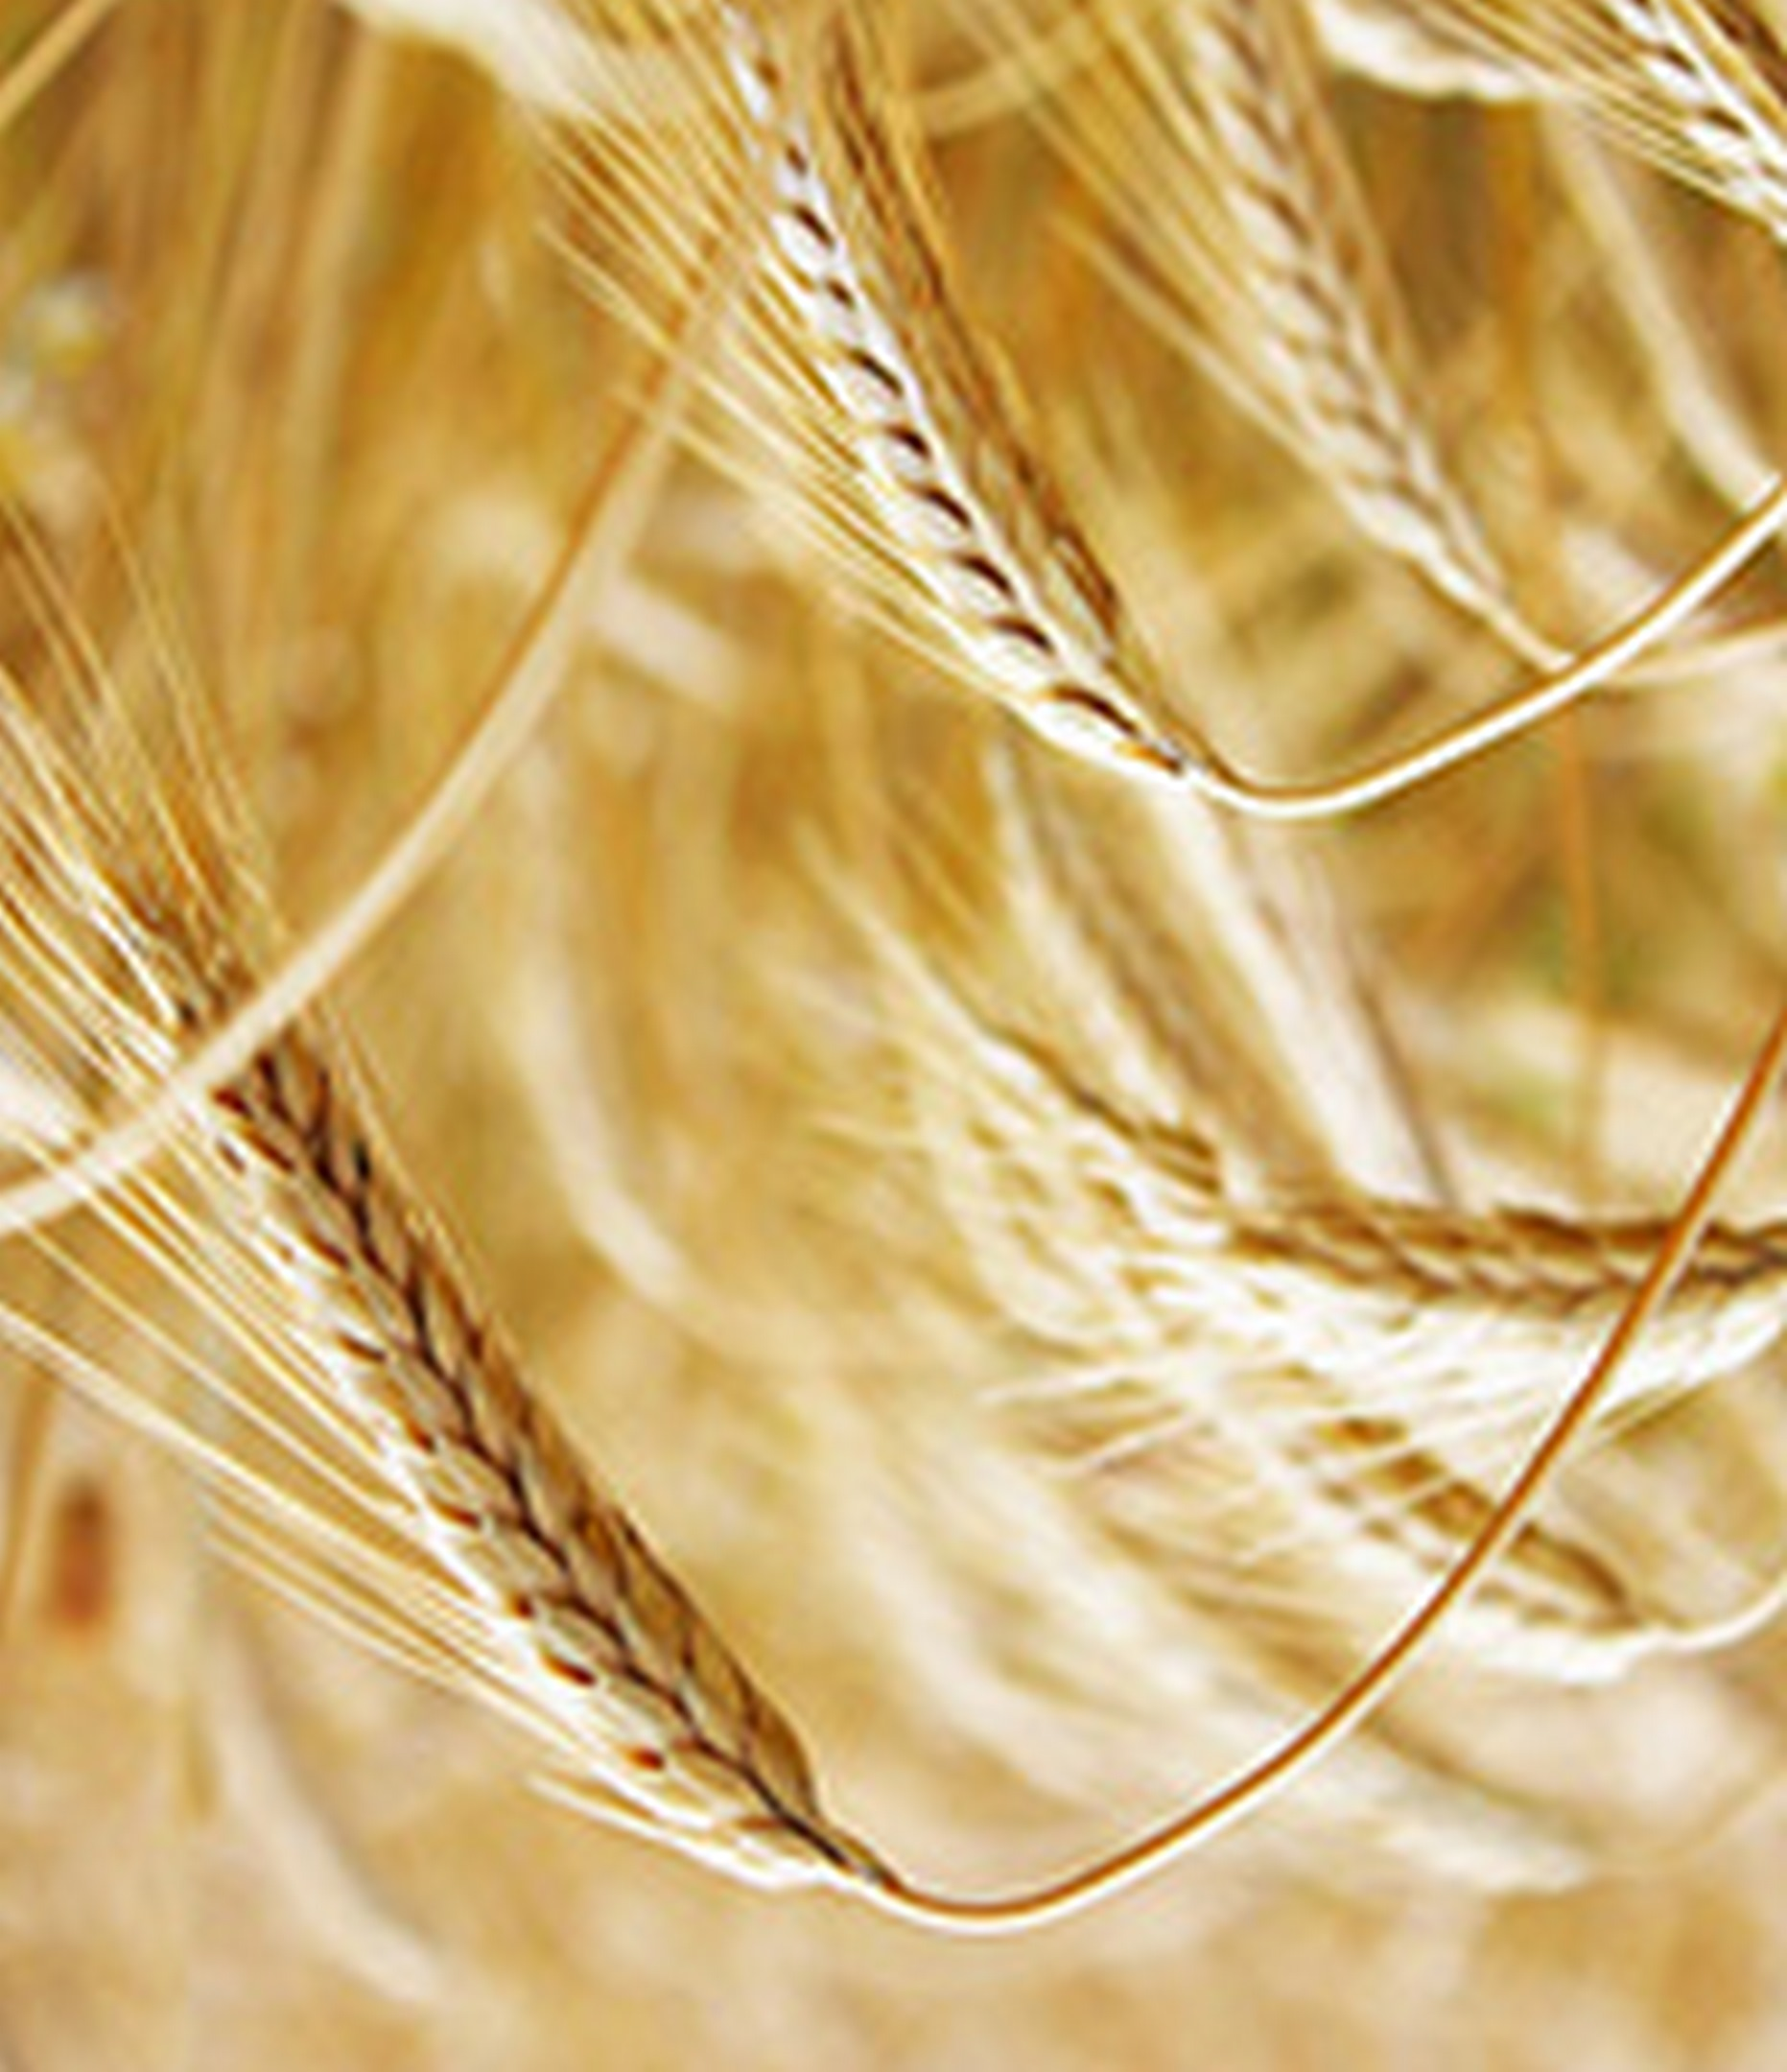Healthy Wheat: (129, 946, 842, 1857)
